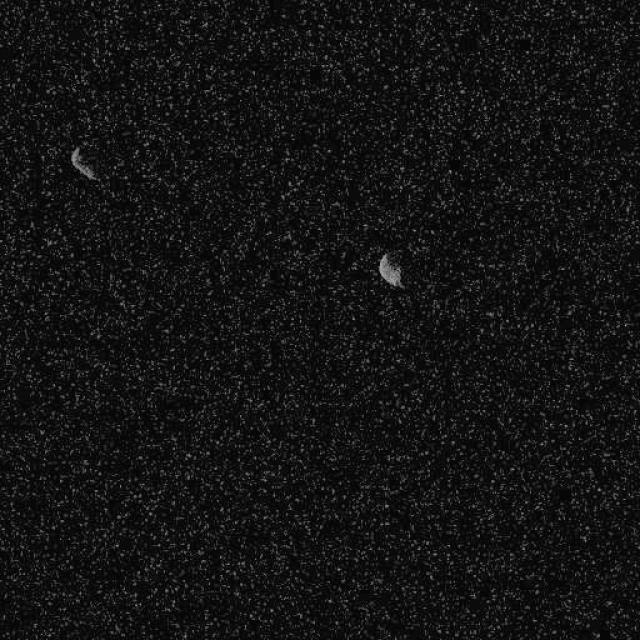D2: (69, 144, 100, 182), (378, 251, 402, 289)
